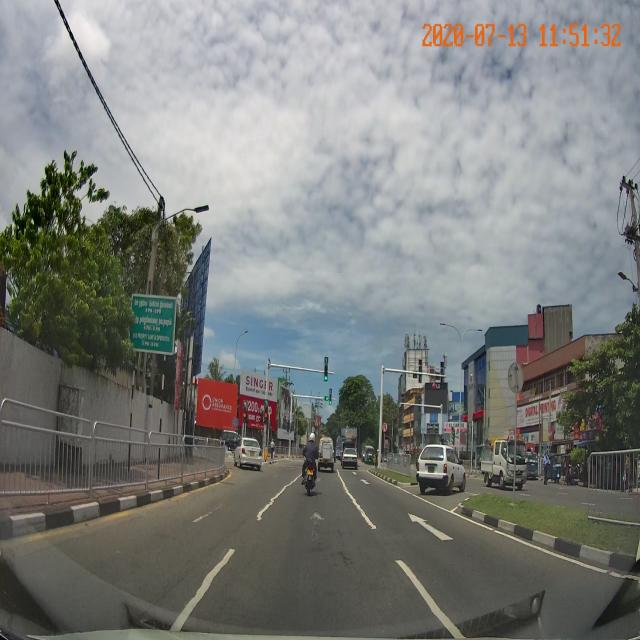Strelka vpered: (407, 513, 454, 542)
